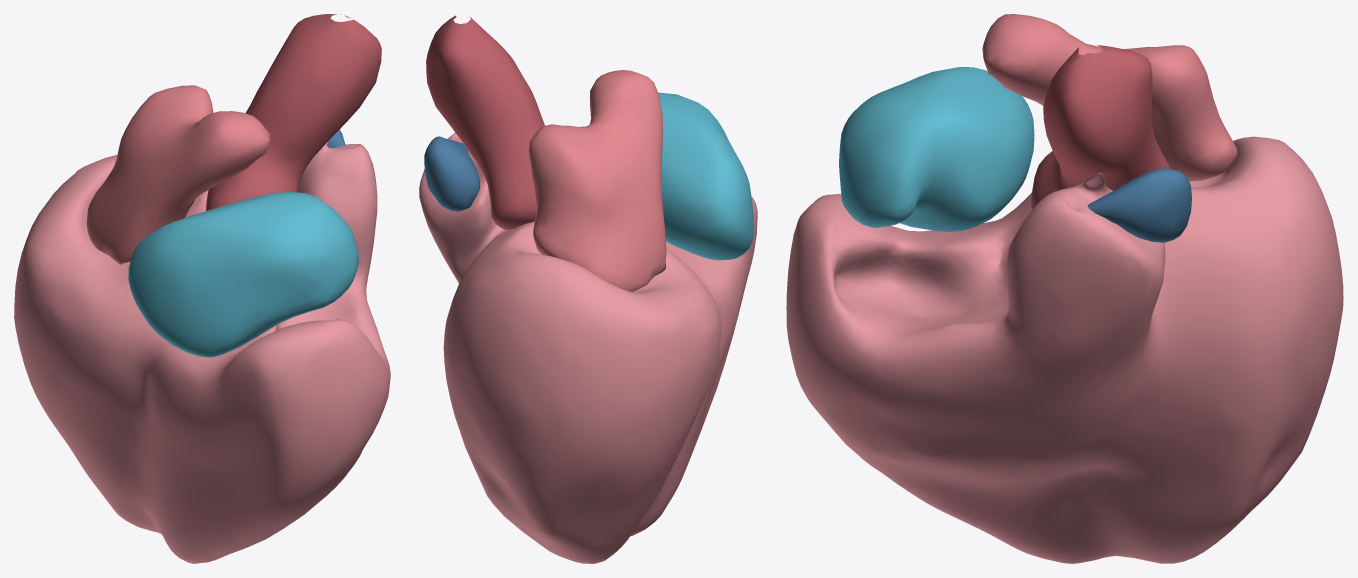
File: frame_48.glb
The picture shows the model from 3 angles, left to right: view 1: azimuth 30°, elevation 25°; view 2: azimuth 150°, elevation 25°; view 3: azimuth 270°, elevation 25°; orthographic projection. The views are drawn at different scales.
Parts seen in each view (by area): view 1: Renderer Node; view 2: Renderer Node; view 3: Renderer Node.
Part boxes in pixels (box(x1,y1,x2,y2)): Renderer Node: box(14, 14, 390, 563); Renderer Node: box(419, 15, 757, 563); Renderer Node: box(786, 14, 1343, 563).
Size of the model in its own units: 107 by 164 by 137.
